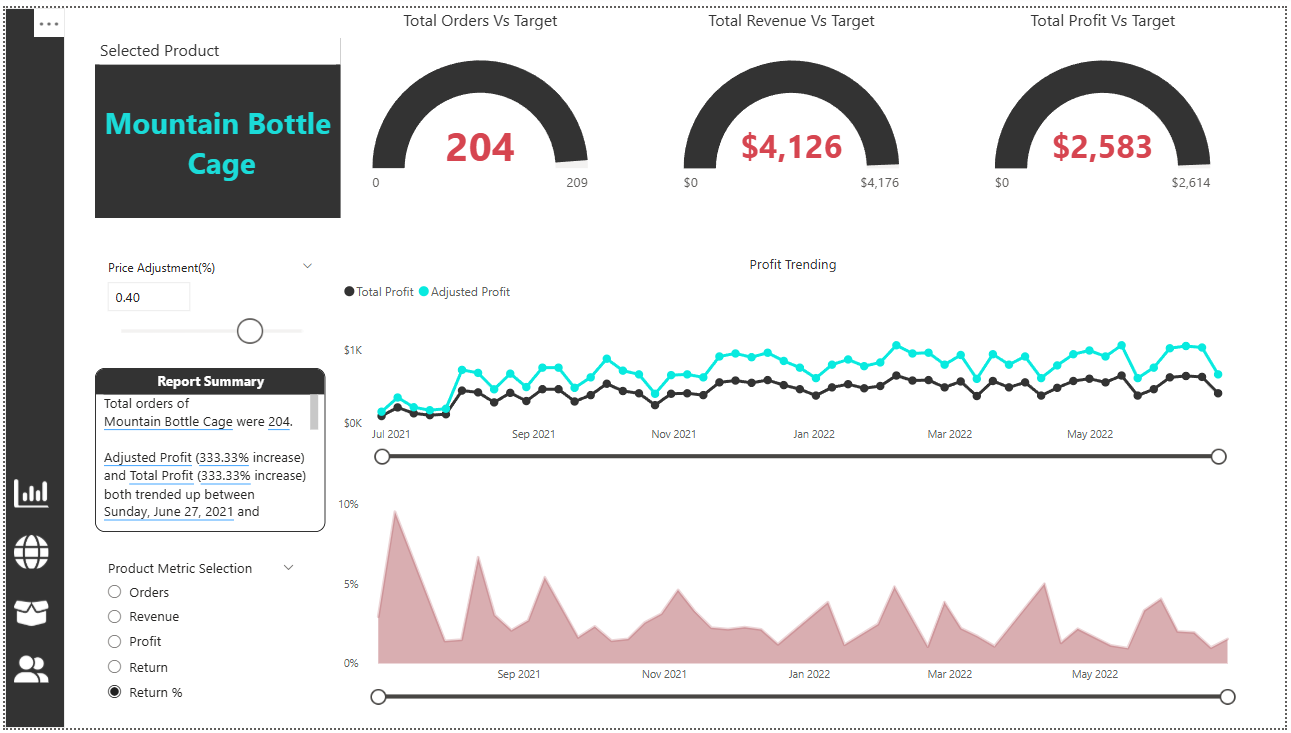

Layout of this report page (visuals, bound fields, positions):
{"tool":"powerbi","page":{"name":"Product Detail","canvas":[1280,720],"ordinal":2},"visuals":[{"type":"shape","box":[0,0,60.3,720.6],"z":0},{"type":"actionButton","box":[5.3,448,50.7,69.3],"z":0,"group":"g1"},{"type":"gauge","title":"Total Orders Vs Target","fields":{"Y":["Measure Table.Total Orders"],"MaxValue":["Measure Table.Order Target"]},"box":[362.5,0,225.7,218.9],"z":1000},{"type":"actionButton","box":[5.3,504,50.7,76],"z":1000,"group":"g1"},{"type":"gauge","title":"Total Profit Vs Target","fields":{"Y":["Measure Table.Total Profit"],"MaxValue":["Measure Table.Profit Target"]},"box":[984.6,0,225.6,219.2],"z":2000},{"type":"actionButton","box":[5.3,566.7,50.7,69.3],"z":2000,"group":"g1"},{"type":"gauge","title":"Total Revenue Vs Target","fields":{"Y":["Measure Table.Total Revenue"],"MaxValue":["Measure Table.Revenue Target"]},"box":[673.6,0,225.6,219.2],"z":3000},{"type":"actionButton","box":[5.3,622.7,50.7,69.3],"z":3000,"group":"g1"},{"type":"lineChart","title":"Profit Trending","fields":{"Category":["Calendar Lookup.Date Hierarchy.Start of Year","Calendar Lookup.Date Hierarchy.Start of Month","Calendar Lookup.Date Hierarchy.Start of Week","Calendar Lookup.Date Hierarchy.Date"],"Y":["Measure Table.Total Profit","Measure Table.Adjusted Profit"]},"box":[334.3,245.7,908.6,212.9],"z":4000},{"type":"areaChart","title":"Return Trending","fields":{"Y":["Measure Table.Return Rate"],"Category":["Calendar Lookup.Date Hierarchy.Start of Year","Calendar Lookup.Date Hierarchy.Start of Month","Calendar Lookup.Date Hierarchy.Start of Week","Calendar Lookup.Date Hierarchy.Date"]},"box":[327.1,482.9,924.3,217.1],"z":5000},{"type":"card","title":"Selected Product","fields":{"Values":["Min(Product Lookup.ProductName)"]},"box":[90.5,30.6,245.8,179.8],"z":6000},{"type":"group","id":"g1","title":"Navigation Buttons","box":[5.3,448,50.7,244],"z":7000},{"type":"slicer","fields":{"Values":["Price Adjustment(%).Price Adjustment(%)"]},"box":[90,245.7,230,107.1],"z":8000},{"type":"slicer","fields":{"Values":["Product Metric Selection.Product Metric Selection"]},"box":[90,545.7,211.4,154.3],"z":9000},{"type":"textbox","title":"Report Summary","box":[90,360,230,164.3],"z":10000}]}

Visuals, with their boxes on the page's 1280x720 design canvas (x1, y1, x2, y2). These are canvas units, not pixel positions in the 1291x733 screenshot, which may show the page scaled, cropped or inside an application window:
shape: [0, 0, 60, 721]
actionButton: [5, 448, 56, 517]
"Total Orders Vs Target" gauge: [362, 0, 588, 219]
actionButton: [5, 504, 56, 580]
"Total Profit Vs Target" gauge: [985, 0, 1210, 219]
actionButton: [5, 567, 56, 636]
"Total Revenue Vs Target" gauge: [674, 0, 899, 219]
actionButton: [5, 623, 56, 692]
"Profit Trending" lineChart: [334, 246, 1243, 459]
"Return Trending" areaChart: [327, 483, 1251, 700]
"Selected Product" card: [90, 31, 336, 210]
"Navigation Buttons" group: [5, 448, 56, 692]
slicer - Price Adjustment(%).Price Adjustment(%): [90, 246, 320, 353]
slicer - Product Metric Selection.Product Metric Selection: [90, 546, 301, 700]
"Report Summary" textbox: [90, 360, 320, 524]
